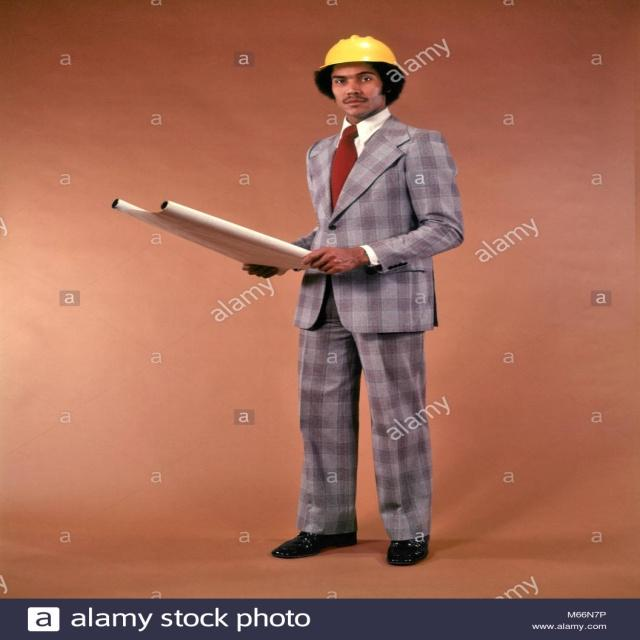helmet: (308, 40, 408, 155)
